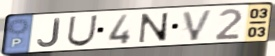2: (214, 7, 245, 42)
4: (106, 13, 133, 46)
J: (36, 17, 62, 48)
N: (138, 12, 170, 44)
U: (65, 14, 100, 48)
V: (181, 8, 216, 43)
